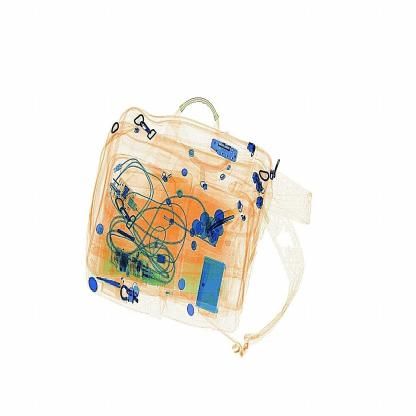pliers: (205, 204, 244, 229)
